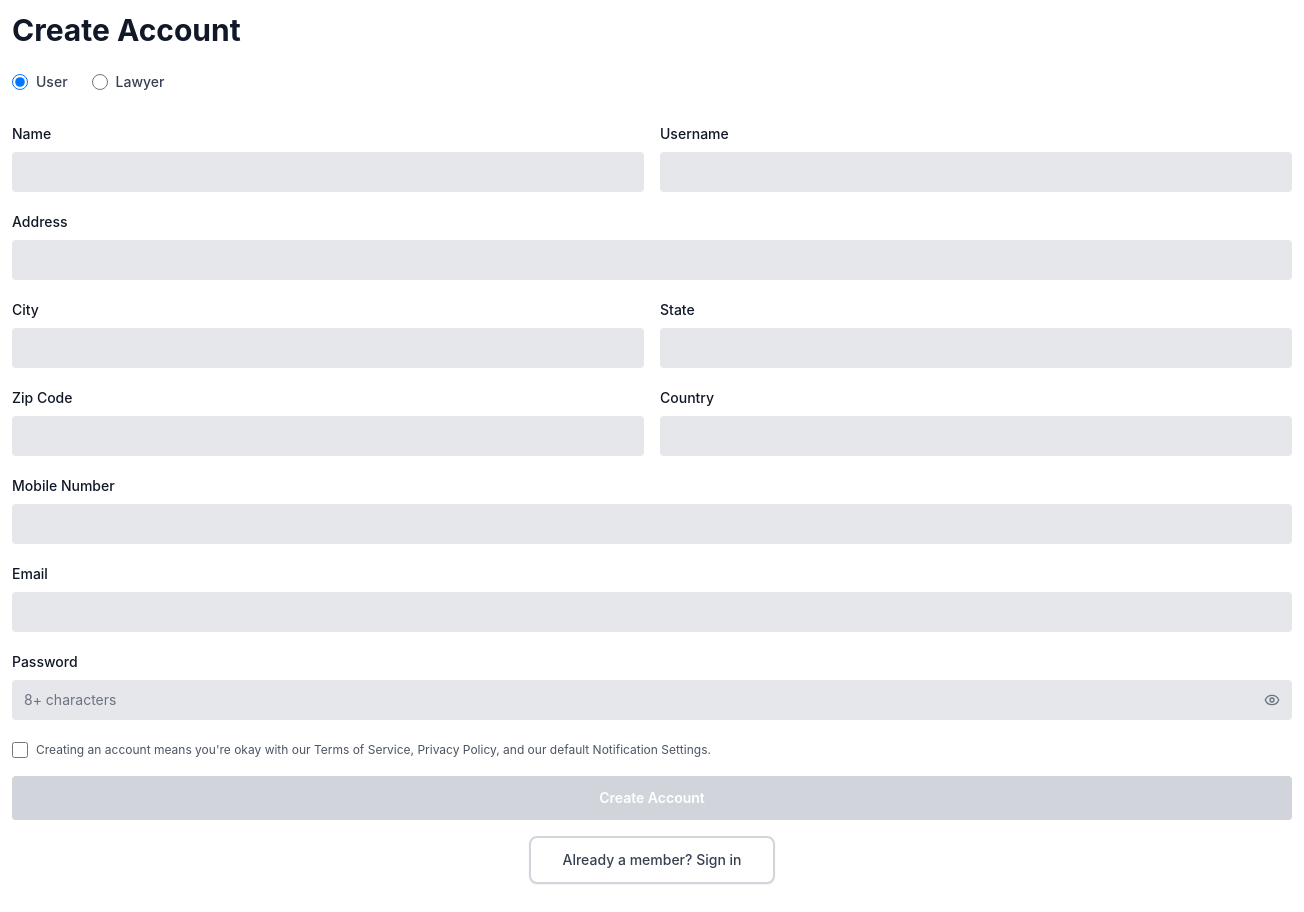
it: AuthForm Password Validation › shows "Password must be at least 8 characters" for short password
In the password field with placeholder "8+ characters": (652, 700) [12,680,1292,720], type "1234567"
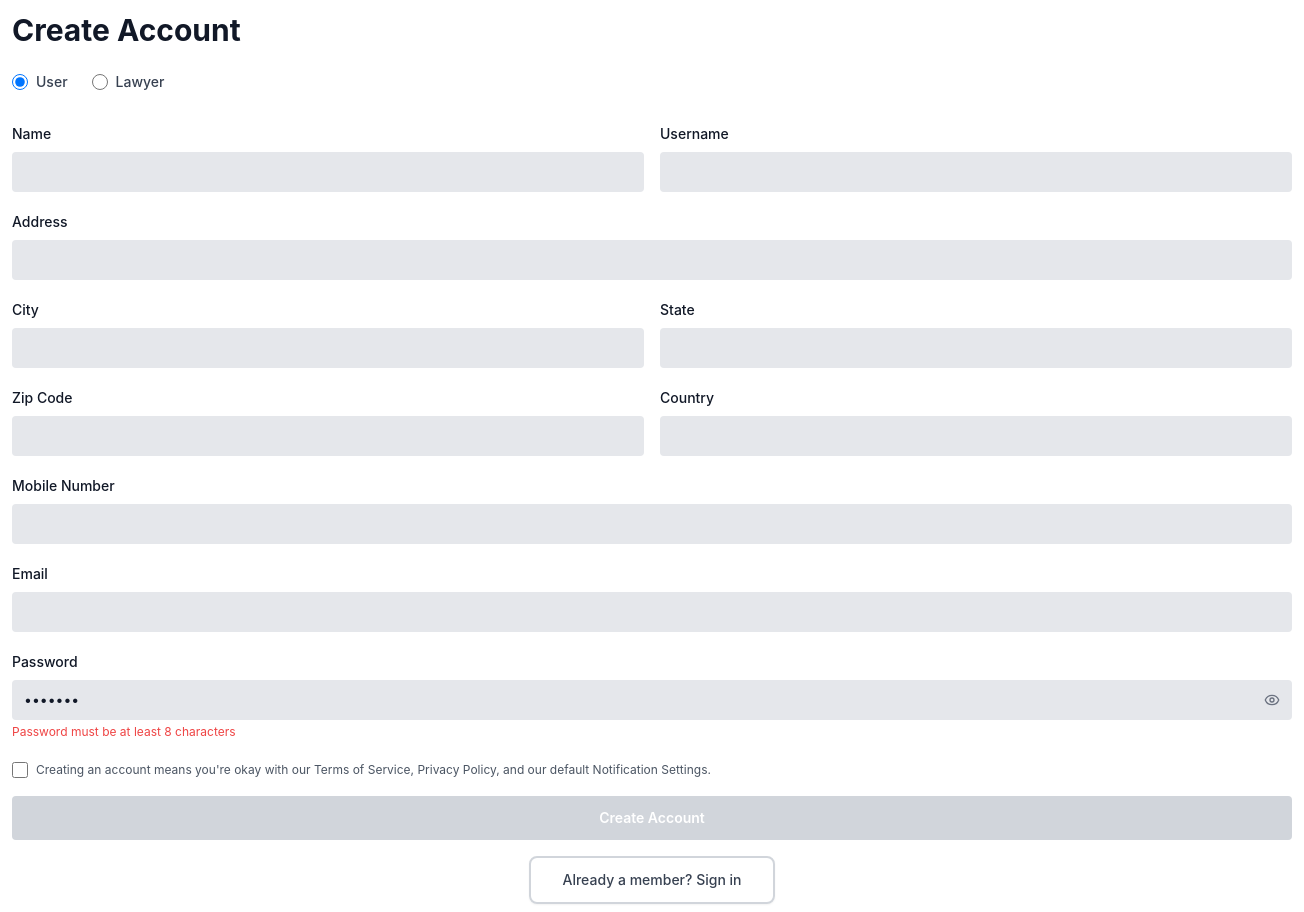
Now the text "Password must be at least 8 characters" is shown, box [12,724,236,739]
